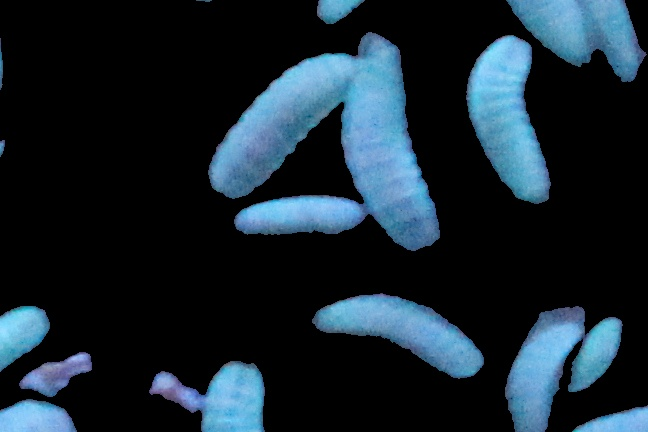larvae: (340, 33, 439, 250), (210, 50, 352, 198), (312, 293, 483, 379), (467, 38, 551, 205), (506, 321, 588, 432), (508, 1, 593, 69), (564, 307, 629, 393), (234, 199, 368, 238), (200, 355, 267, 432), (583, 1, 644, 81), (1, 306, 49, 368)
